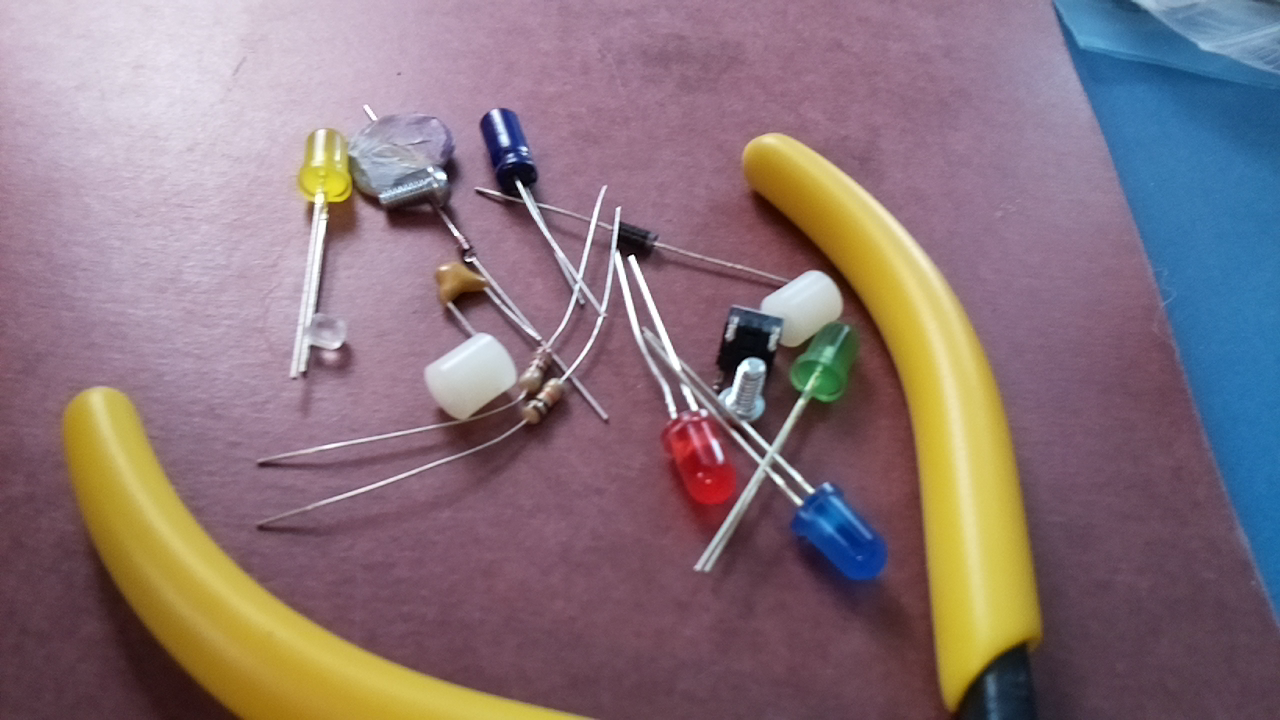button: (714, 303, 787, 383)
capacitor: (479, 104, 543, 199), (433, 262, 495, 315)
diode: (611, 219, 662, 261), (450, 232, 480, 267)
led: (788, 478, 890, 586), (657, 402, 743, 511), (788, 315, 862, 408), (295, 121, 361, 209)
resistor: (519, 371, 568, 429), (518, 345, 557, 396)
